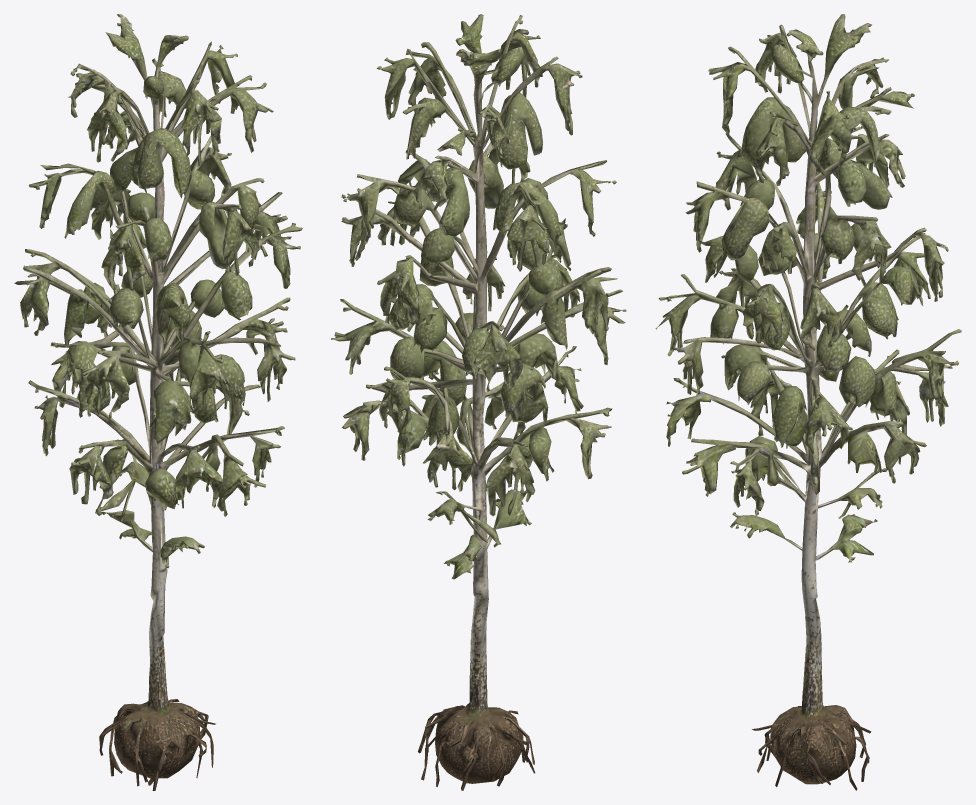
File: tree_b.glb
3 views of the same model, side by side, from view 1: azimuth 30°, elevation 25°; view 2: azimuth 150°, elevation 25°; view 3: azimuth 270°, elevation 25° (orthographic).
Parts seen in each view (by area): view 1: tripo_node_1eebd877-3371-4ddc-beb5-3cb7ee2ddfe3; view 2: tripo_node_1eebd877-3371-4ddc-beb5-3cb7ee2ddfe3; view 3: tripo_node_1eebd877-3371-4ddc-beb5-3cb7ee2ddfe3.
Boxes of the visible parts, <box> form: tripo_node_1eebd877-3371-4ddc-beb5-3cb7ee2ddfe3: <box>14,14,302,790</box>; tripo_node_1eebd877-3371-4ddc-beb5-3cb7ee2ddfe3: <box>331,14,626,790</box>; tripo_node_1eebd877-3371-4ddc-beb5-3cb7ee2ddfe3: <box>655,14,961,790</box>.
Bounding box in the file's own units: 0.3661 × 0.9571 × 0.3549.
1 material, 1 textured.
